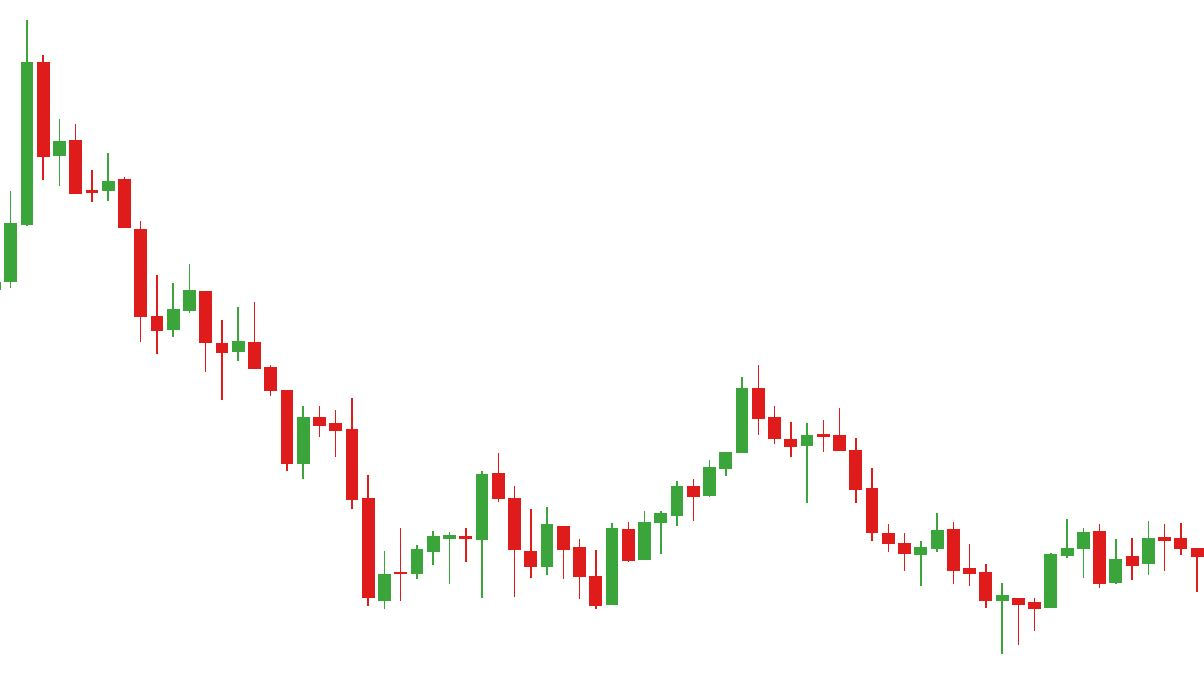buy: (506, 509, 622, 609)
